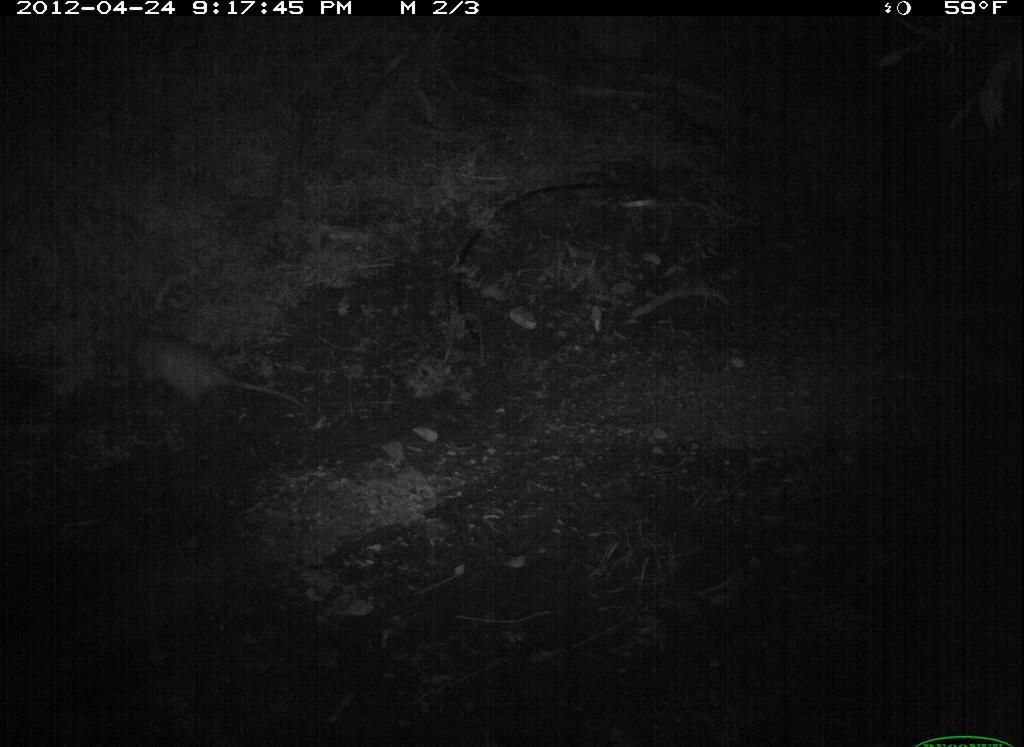opossum: (114, 322, 315, 441)
